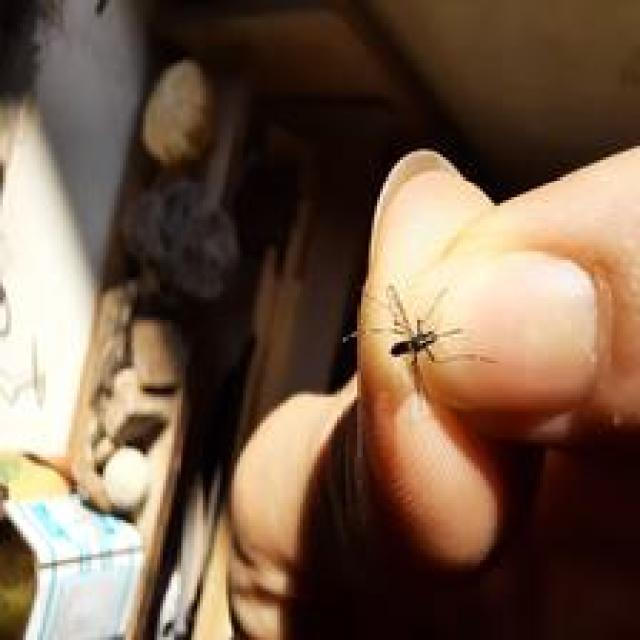Aedes albopictus: (342, 282, 498, 402)
